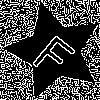F: (29, 26, 84, 81)
